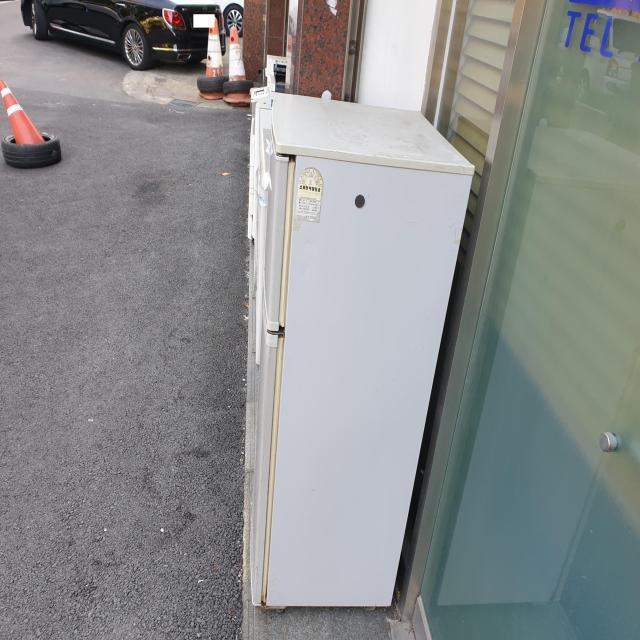refrigerator: (249, 90, 477, 610)
